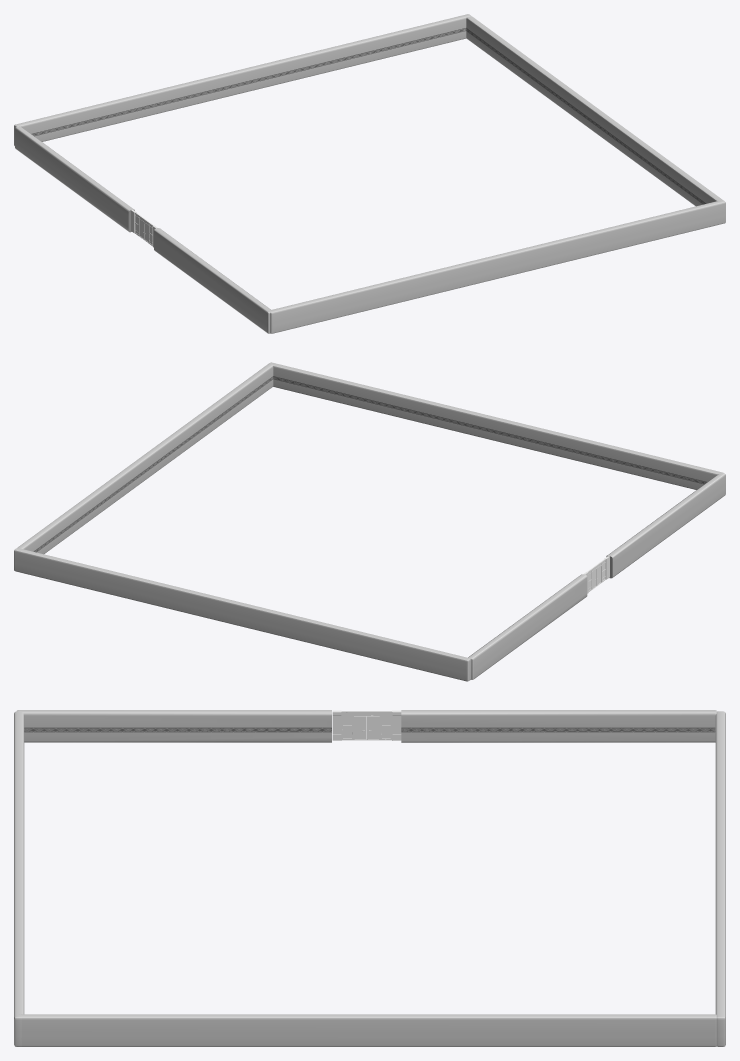
The model's file is duvar-kapi.fbx.
The picture shows the model from 3 angles, top to bottom: view 1: azimuth 30°, elevation 25°; view 2: azimuth 150°, elevation 25°; view 3: azimuth 270°, elevation 25°; orthographic projection. The views are drawn at different scales.
Parts seen in each view (by area): view 1: duvar; view 2: duvar; view 3: duvar, SM_Bld_Wall_Baseboard_Door_Large_01.
Boxes of the visible parts, left/top/right/bottom form: duvar: left=14, top=14, right=725, bottom=333; duvar: left=14, top=362, right=725, bottom=681; duvar: left=14, top=710, right=725, bottom=1046; SM_Bld_Wall_Baseboard_Door_Large_01: left=332, top=711, right=401, bottom=740.
Size of the model in its own units: 25093 by 1152 by 24470.
